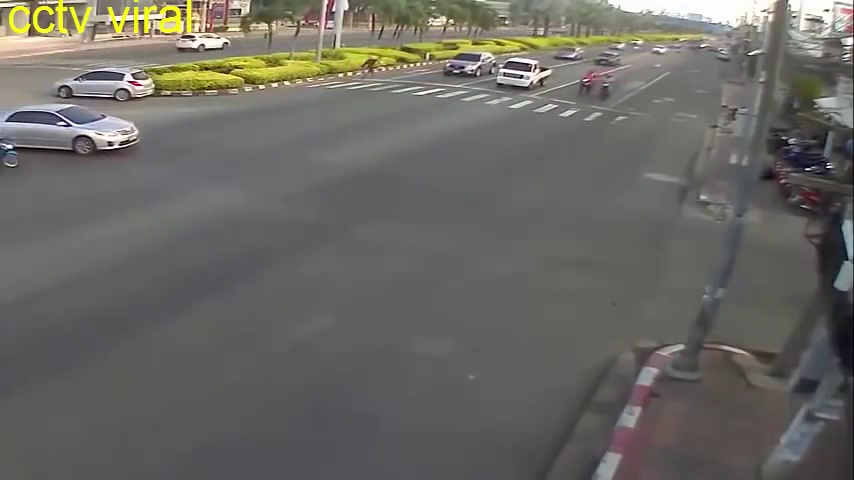car: (1, 102, 141, 157), (50, 68, 156, 102), (496, 57, 554, 88), (445, 52, 495, 79), (176, 30, 231, 54), (593, 48, 618, 67)
